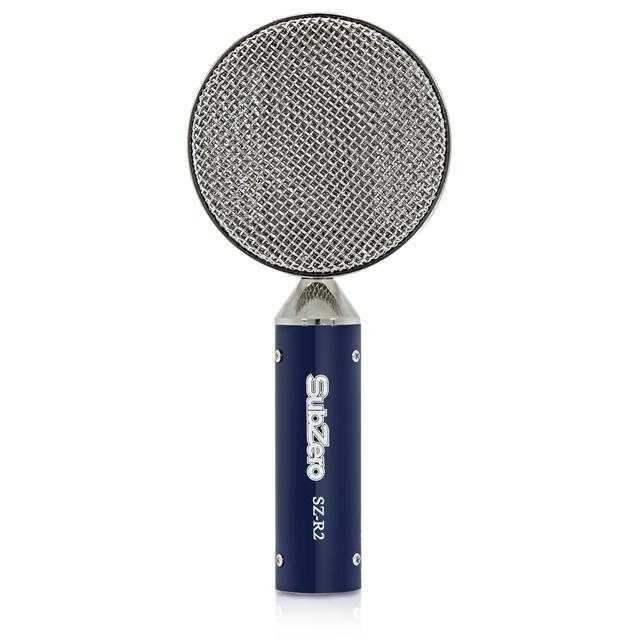microphone: (185, 21, 454, 484)
